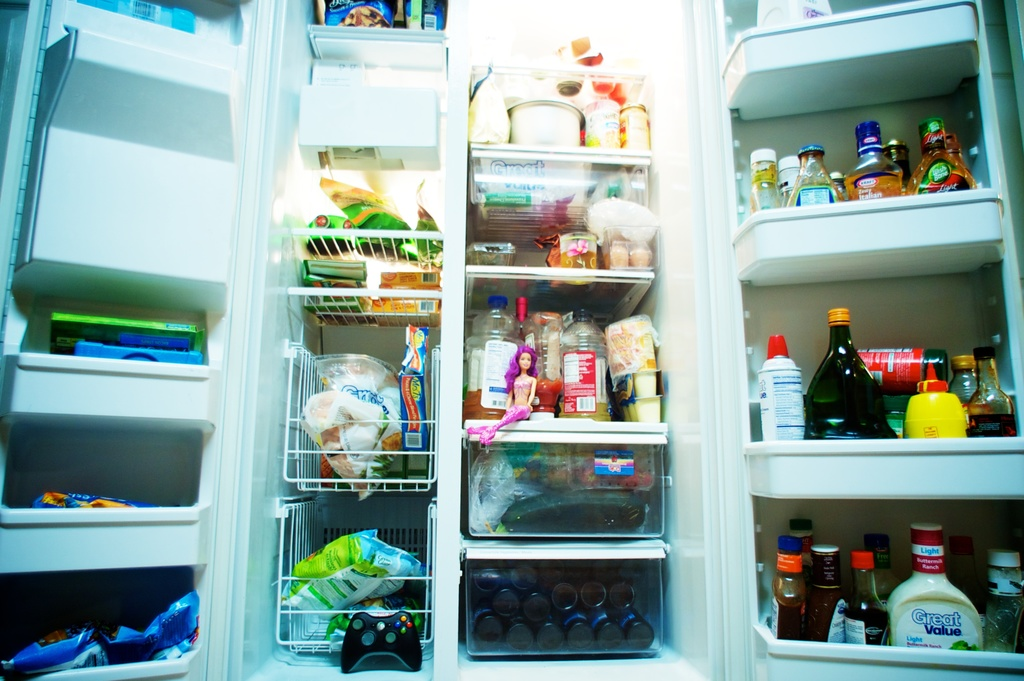refrigerator door: (710, 35, 1020, 681), (25, 28, 230, 681)
